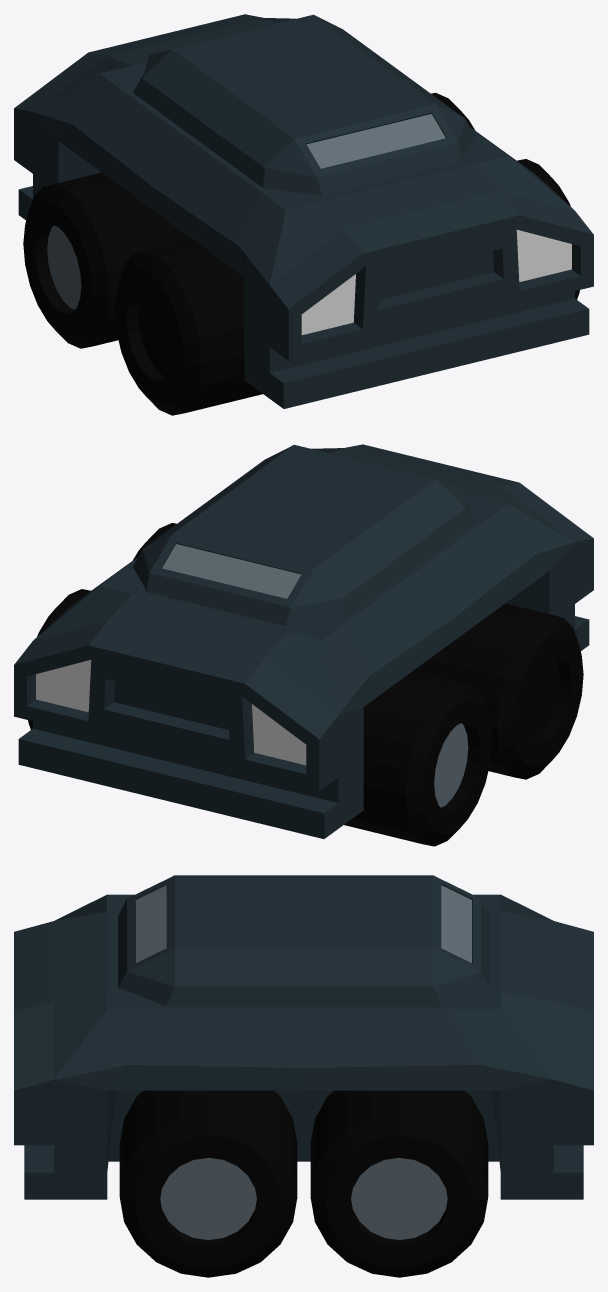
Rendered from car basic.fbx.
3 views of the same model, one above another, from view 1: azimuth 30°, elevation 25°; view 2: azimuth 150°, elevation 25°; view 3: azimuth 270°, elevation 25° (orthographic). The views are drawn at different scales.
Parts seen in each view (by area): view 1: Cube.075; view 2: Cube.075; view 3: Cube.075.
Boxes of the visible parts, x1,y1,x2,y2 form: Cube.075: (14,14,593,415); Cube.075: (14,444,593,846); Cube.075: (14,875,593,1277).
Size of the model in its own units: 269 by 163 by 320.
